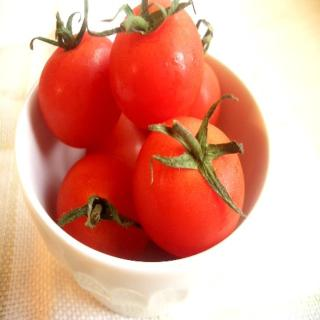tomato: (133, 92, 249, 256), (88, 0, 203, 130), (30, 0, 122, 150), (56, 153, 148, 255), (190, 61, 224, 126)
